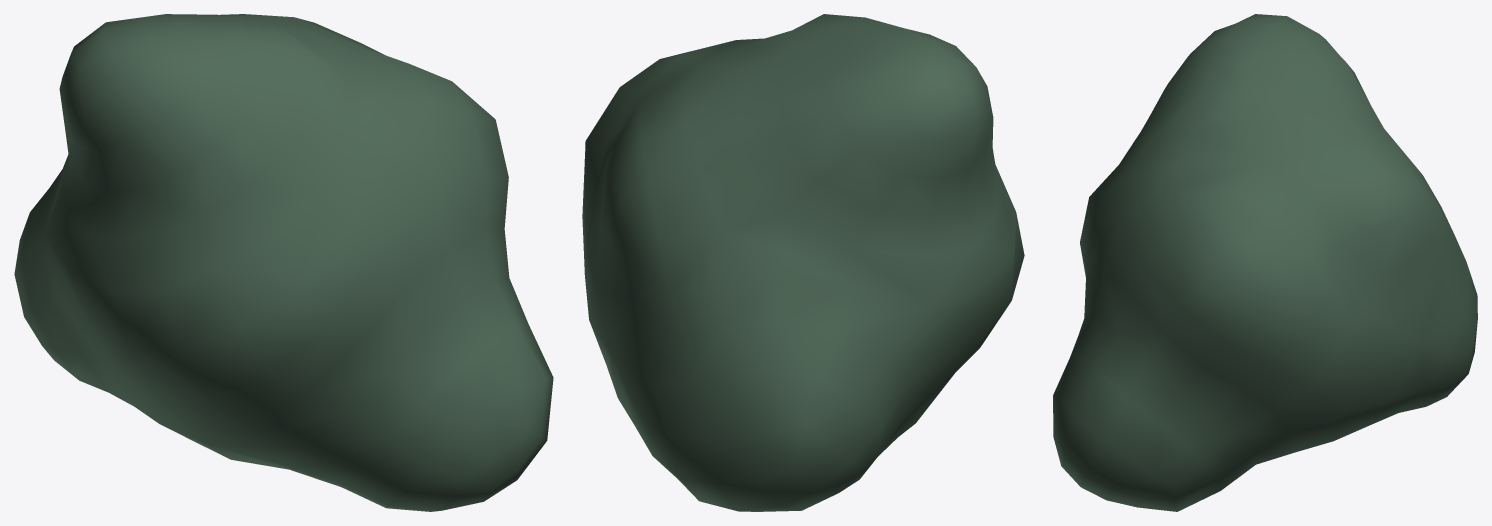
3 views of the same model, side by side, from view 1: azimuth 30°, elevation 25°; view 2: azimuth 150°, elevation 25°; view 3: azimuth 270°, elevation 25° (orthographic). The views are drawn at different scales.
Visible parts, largest first — view 1: PM3D_Sphere3D1_9; view 2: PM3D_Sphere3D1_9; view 3: PM3D_Sphere3D1_9.
Boxes of the visible parts, bbox=[...] form: PM3D_Sphere3D1_9: bbox=[14, 14, 553, 511]; PM3D_Sphere3D1_9: bbox=[582, 14, 1024, 511]; PM3D_Sphere3D1_9: bbox=[1053, 14, 1477, 511].
Size of the model in its own units: 0.0244 by 0.0269 by 0.0264.
